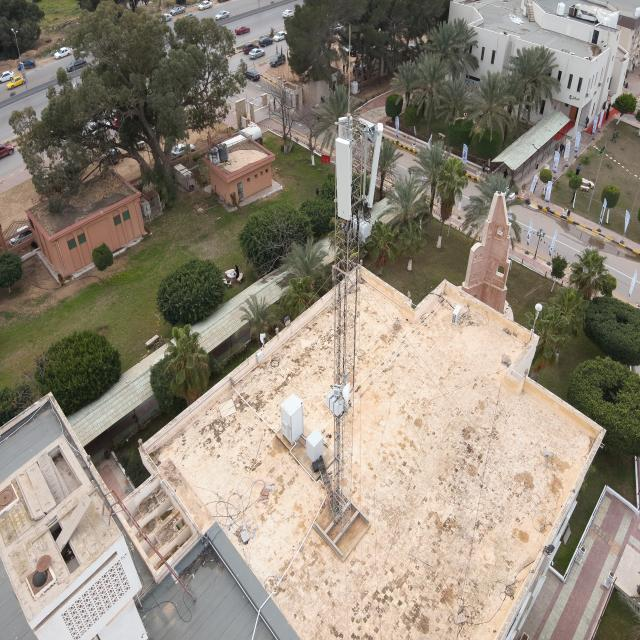antenna: (334, 137, 356, 222), (367, 122, 385, 209), (338, 115, 353, 197)
lighnig-rad: (348, 24, 352, 117)
microware-dish: (333, 382, 353, 405)
power-box: (324, 389, 346, 418)
radio-unit: (348, 212, 371, 242)
